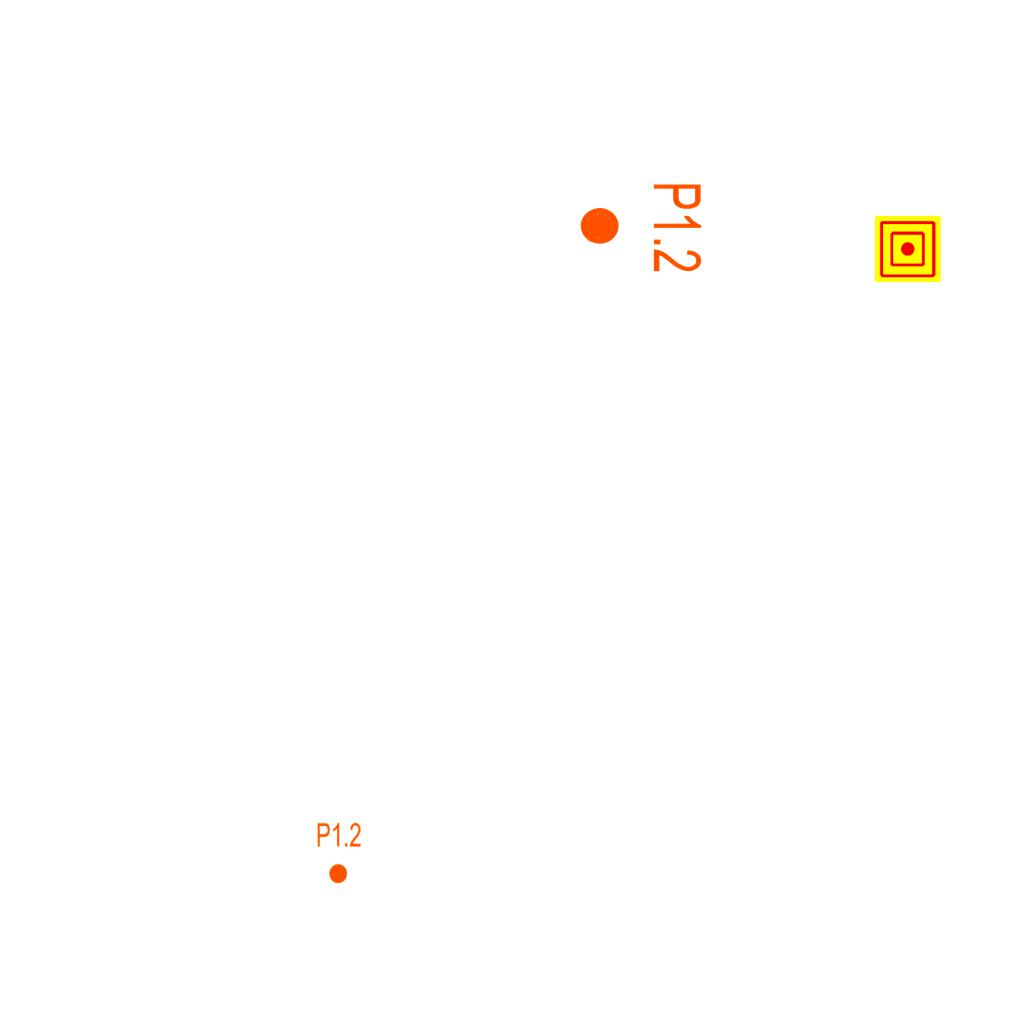Downlight_LED_Einbauleuchten_Flur: (577, 181, 705, 274), (316, 821, 362, 885)
NAM-Nichtautomatischer_Melder: (875, 216, 941, 282)
